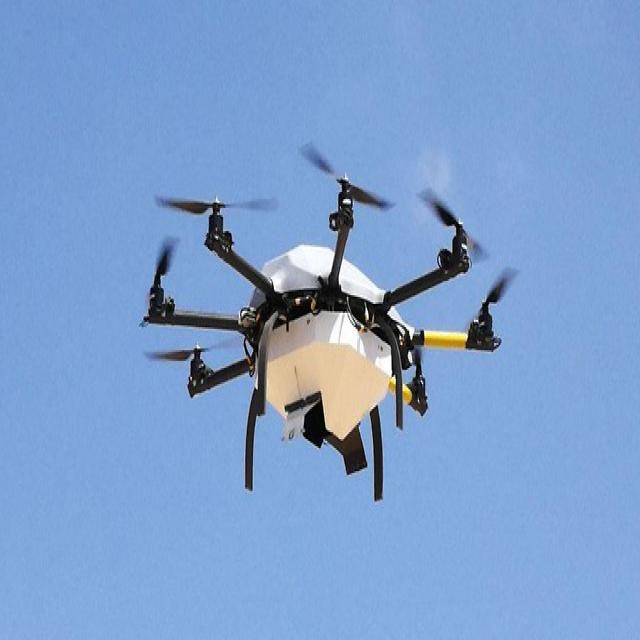drone: (119, 167, 512, 485)
